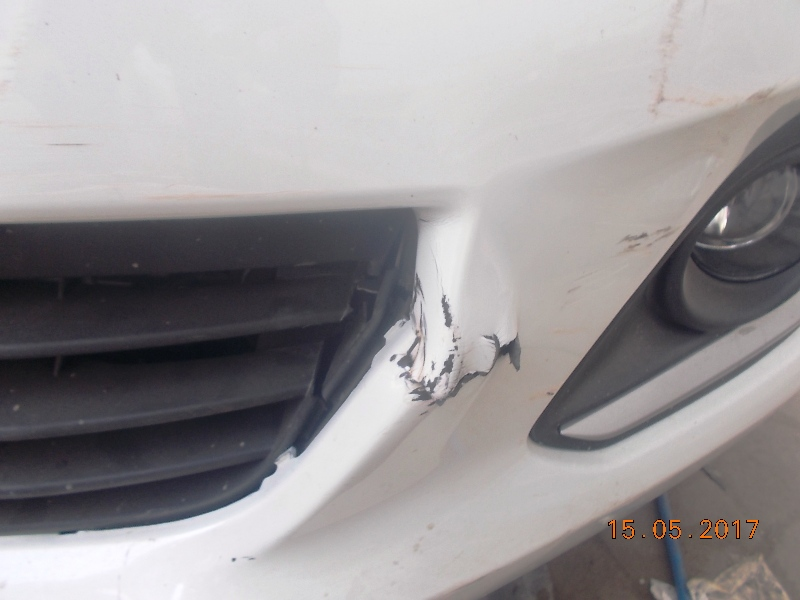Scratch_or_spot: (408, 293, 452, 398)
Tear: (461, 321, 524, 376)
